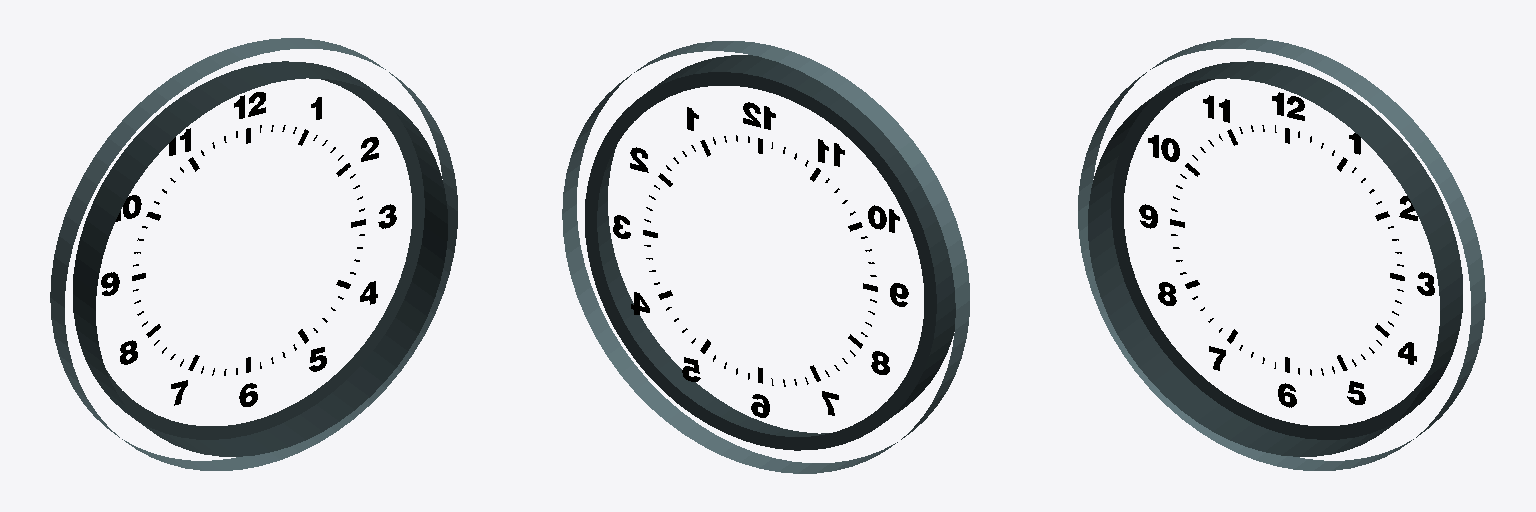
3 views of the same model, side by side, from view 1: azimuth 30°, elevation 25°; view 2: azimuth 150°, elevation 25°; view 3: azimuth 330°, elevation 25° (orthographic).
Parts seen in each view (by area): view 1: fant_clock_Cylinder; view 2: fant_clock_Cylinder; view 3: fant_clock_Cylinder.
Boxes of the visible parts, x1,y1,x2,y2 form: fant_clock_Cylinder: [50, 38, 457, 470]; fant_clock_Cylinder: [562, 41, 969, 473]; fant_clock_Cylinder: [1078, 38, 1485, 470].
Size of the model in its own units: 3 by 3 by 0.5034.
Materials: 2 (2 with a texture image).